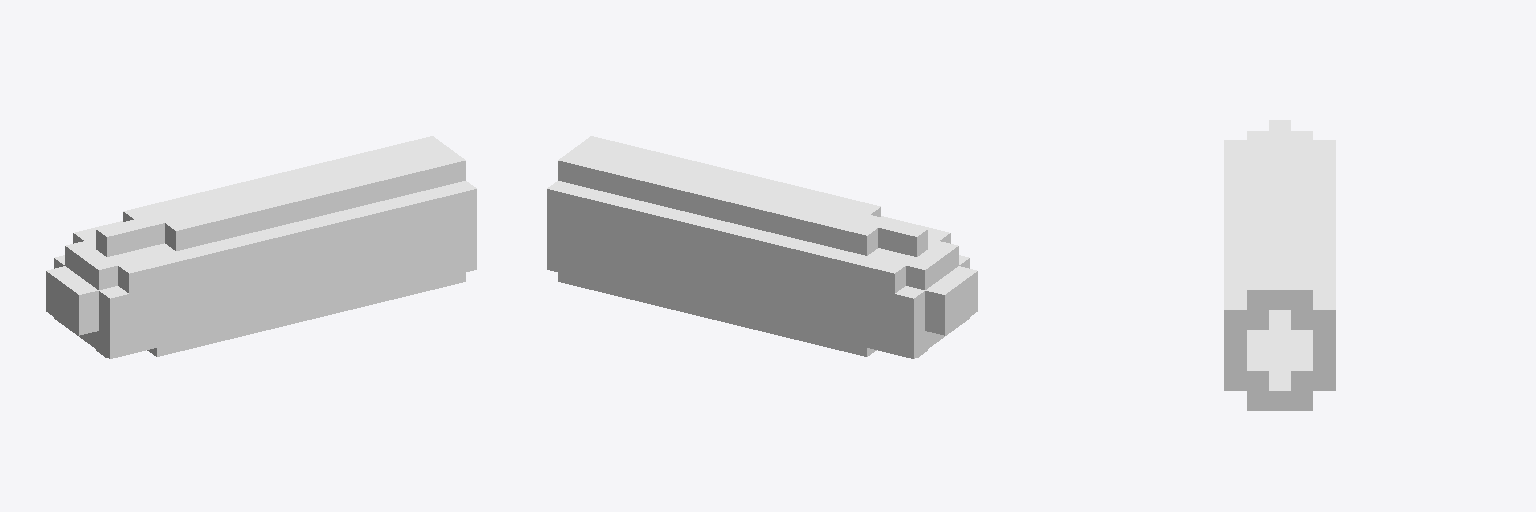
The model's file is left_lower_arm.obj.
The picture shows the model from 3 angles: view 1: azimuth 30°, elevation 25°; view 2: azimuth 150°, elevation 25°; view 3: azimuth 270°, elevation 25°; orthographic projection.
Visible parts, largest first — view 1: Ida; view 2: Ida; view 3: Ida.
Part boxes in pixels (left/top/right/bottom): Ida: left=46, top=136, right=476, bottom=358; Ida: left=547, top=136, right=977, bottom=358; Ida: left=1224, top=120, right=1335, bottom=410.
Bounding box in the file's own units: 2 × 0.6 × 0.5.